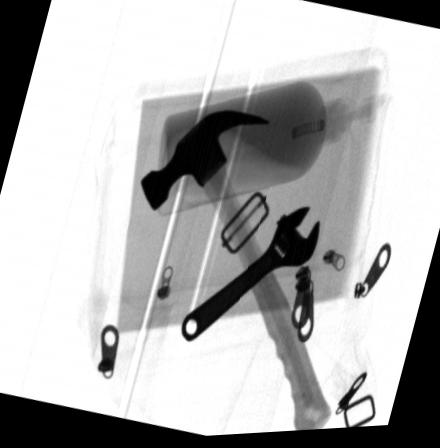Hammer: (139, 113, 331, 434)
Wrench: (180, 210, 320, 346)
